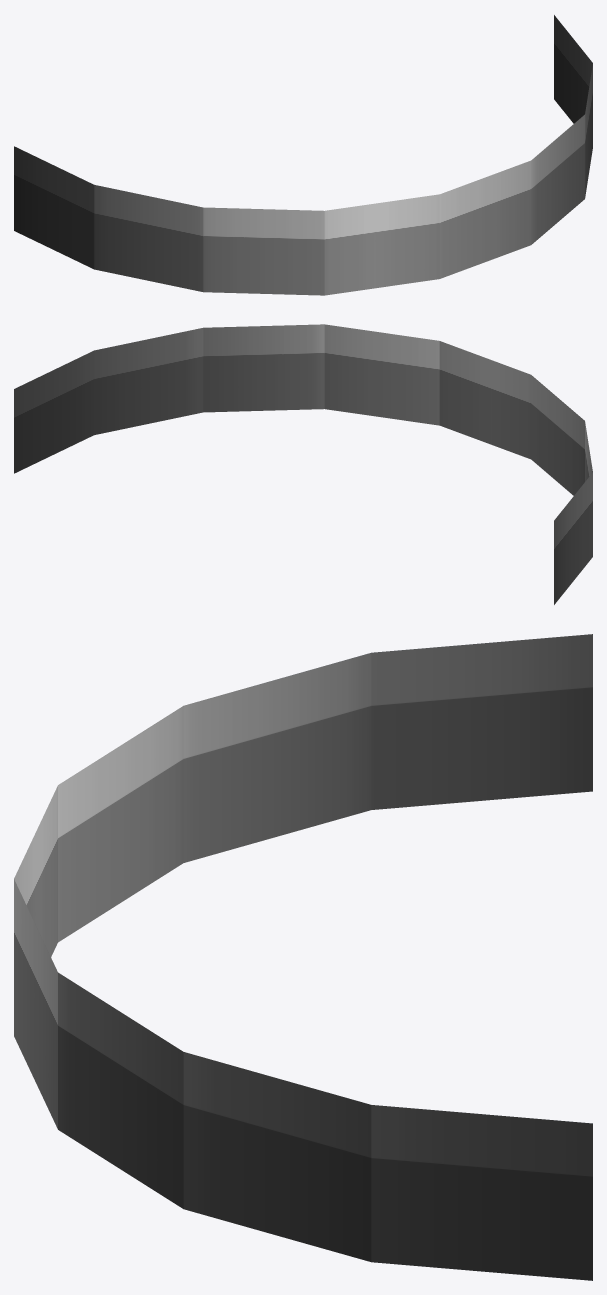
Rendered from middle.gltf.
3 views of the same model, one above another, from view 1: azimuth 30°, elevation 25°; view 2: azimuth 150°, elevation 25°; view 3: azimuth 270°, elevation 25° (orthographic). The views are drawn at different scales.
Parts seen in each view (by area): view 1: middle; view 2: middle; view 3: middle.
Boxes of the visible parts, bbox=[...] form: middle: bbox=[14, 15, 592, 295]; middle: bbox=[14, 324, 592, 604]; middle: bbox=[14, 634, 592, 1280].
Bounding box in the file's own units: 1 × 0.15 × 0.5.
Materials: 1 (1 with a texture image).
